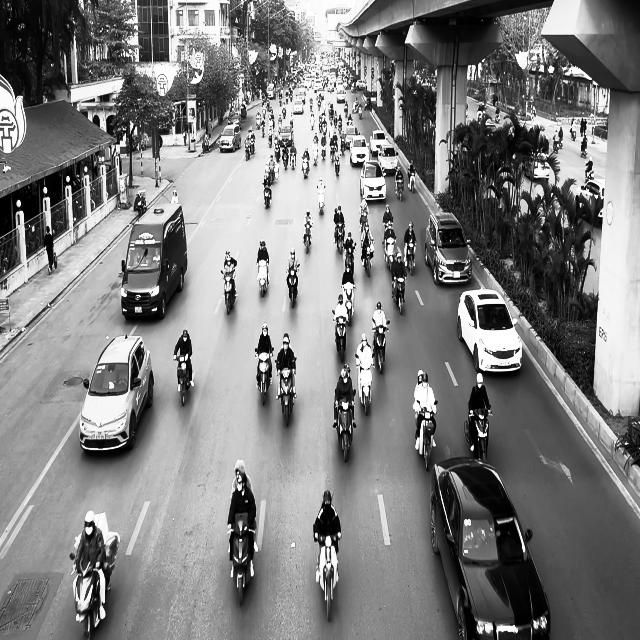car: (429, 456, 551, 639), (79, 334, 154, 453), (457, 288, 522, 375), (424, 212, 472, 286), (574, 178, 605, 225), (360, 161, 386, 202), (218, 124, 242, 152)
motorbike: (69, 512, 120, 639), (314, 531, 342, 622), (228, 519, 256, 605), (413, 400, 438, 471), (275, 357, 297, 426), (464, 408, 492, 462), (334, 394, 355, 462), (355, 355, 374, 415), (255, 348, 274, 405), (174, 354, 194, 406), (372, 321, 389, 374), (332, 308, 348, 362), (220, 268, 237, 314), (341, 284, 356, 326), (286, 266, 299, 308), (256, 259, 270, 297), (392, 276, 406, 314), (361, 239, 374, 277), (382, 237, 396, 270), (405, 241, 416, 275), (134, 189, 146, 216), (302, 222, 312, 253), (262, 180, 272, 208), (316, 186, 325, 214), (395, 176, 404, 201)
truck: (120, 203, 188, 320)
